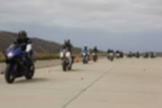Vehicle: (3, 45, 35, 85), (56, 48, 75, 73), (80, 51, 90, 64), (91, 50, 99, 61), (109, 50, 115, 61), (106, 51, 111, 60), (115, 50, 120, 59)
